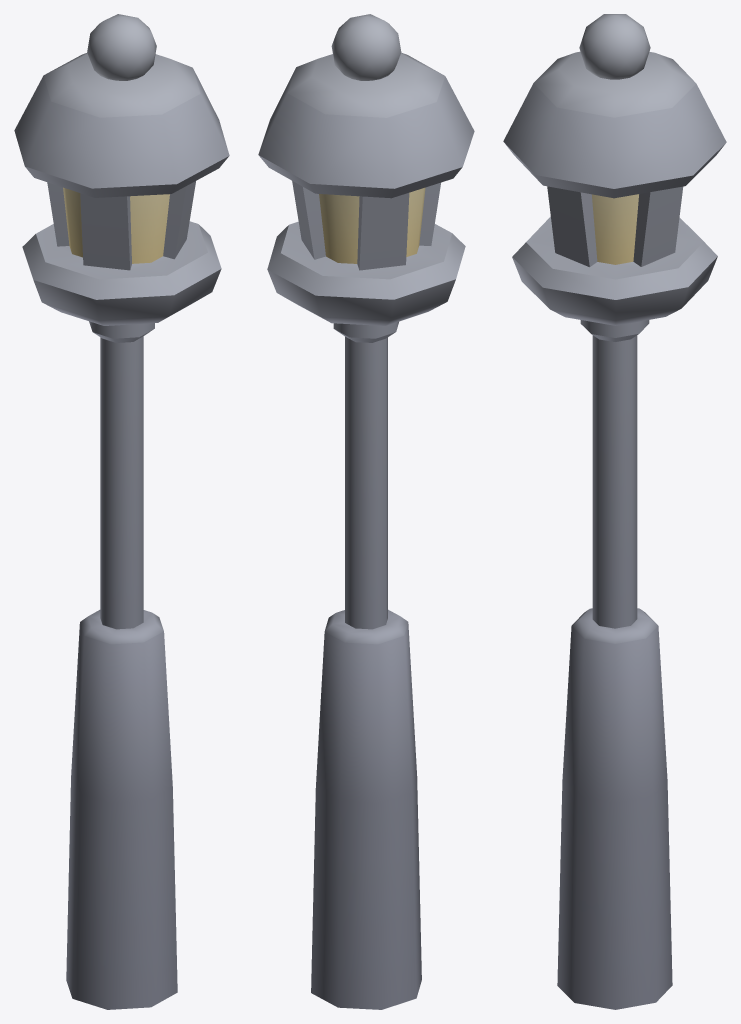
The model's file is Street Lantern.glb.
3 renders of one model, left to right at view 1: azimuth 30°, elevation 25°; view 2: azimuth 150°, elevation 25°; view 3: azimuth 270°, elevation 25°, orthographic.
Parts seen in each view (by area): view 1: street_lantern; view 2: street_lantern; view 3: street_lantern.
Boxes of the visible parts, x1,y1,x2,y2 form: street_lantern: (14,14,229,1009); street_lantern: (258,14,474,1009); street_lantern: (503,14,726,1009).
Size of the model in its own units: 0.9398 by 4.5 by 0.9398.
Materials: 1 (1 with a texture image).
